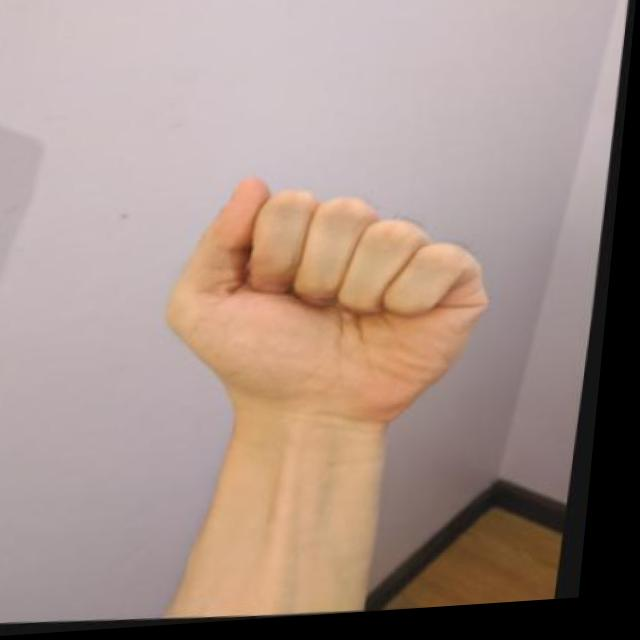A: (152, 156, 526, 449)
